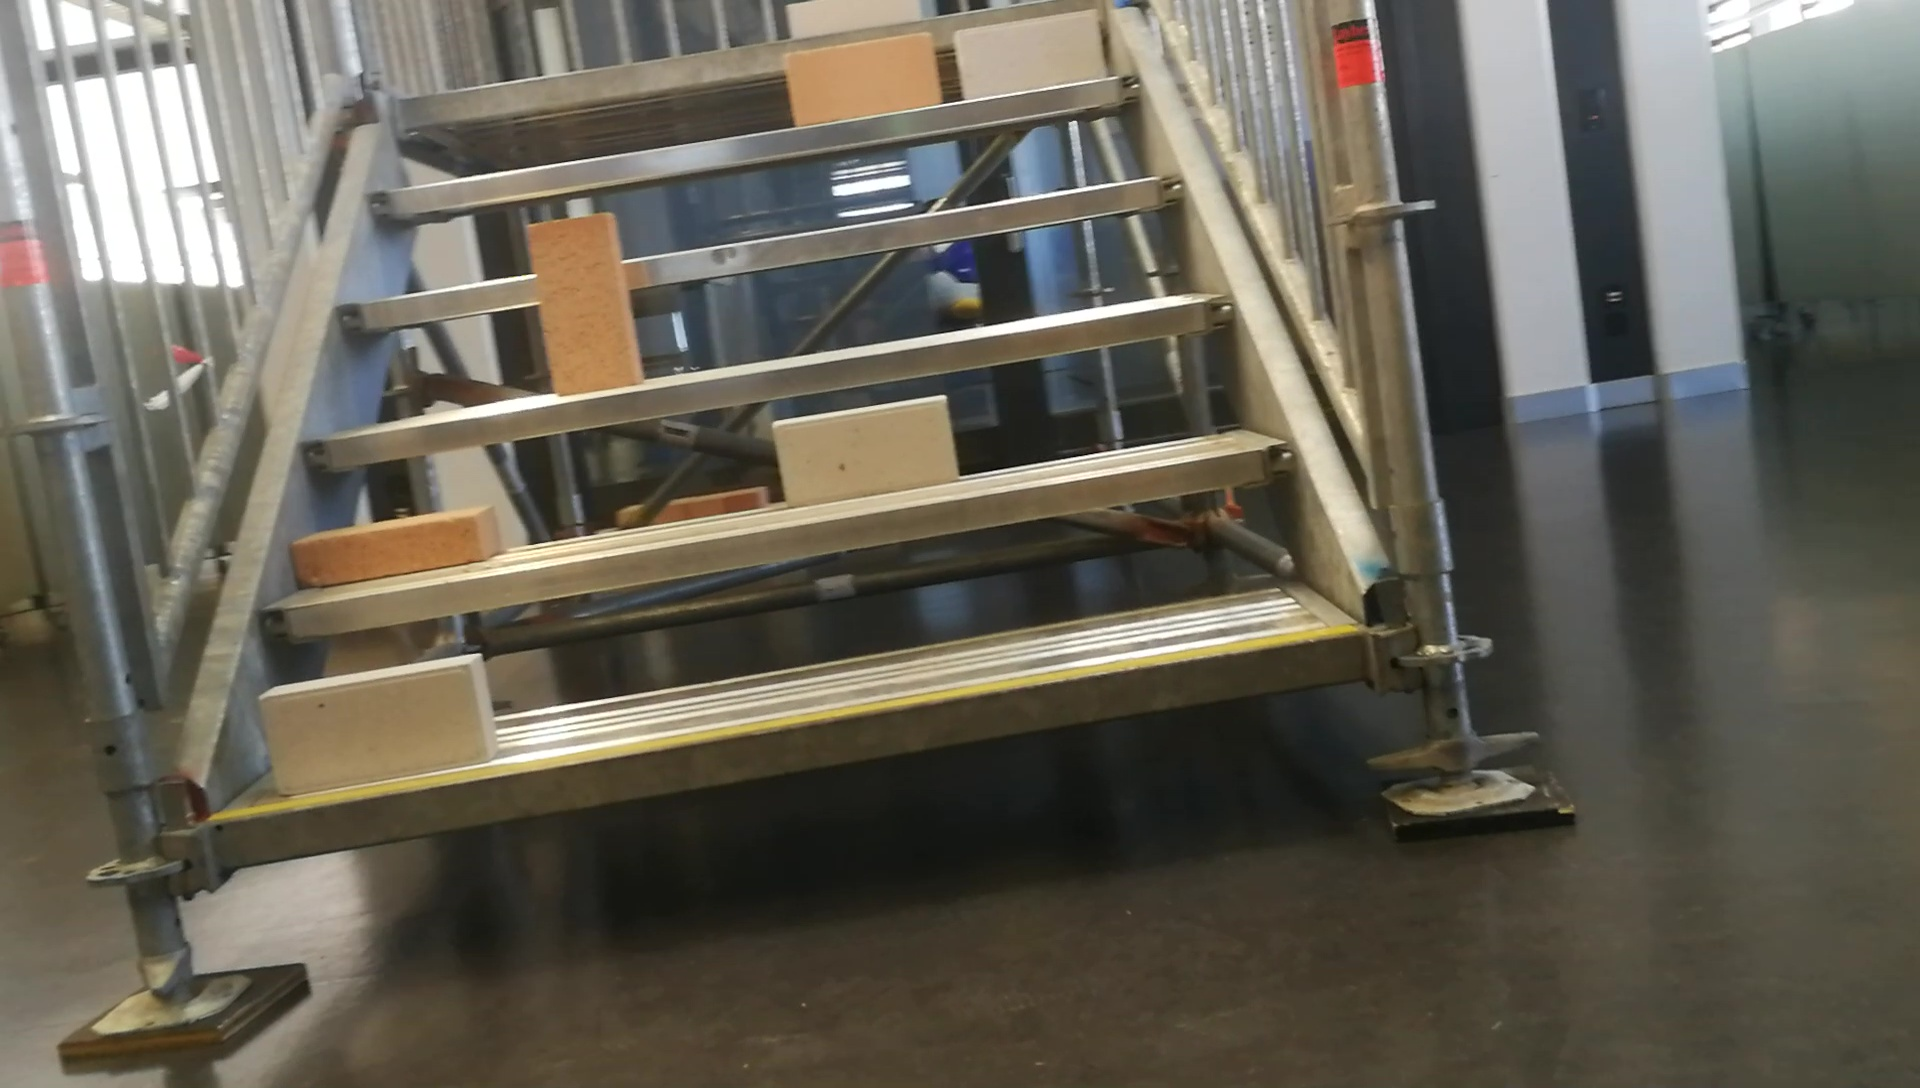brick: (256, 648, 495, 793), (527, 214, 642, 396), (779, 393, 953, 508), (291, 506, 495, 586), (785, 32, 935, 125), (957, 11, 1100, 98), (787, 5, 928, 28)
edge: (218, 625, 1360, 862), (262, 443, 1292, 630), (305, 295, 1236, 466), (330, 175, 1183, 328), (371, 75, 1138, 218)
stairs: (58, 7, 1576, 1062)
steps: (207, 5, 1375, 881)
